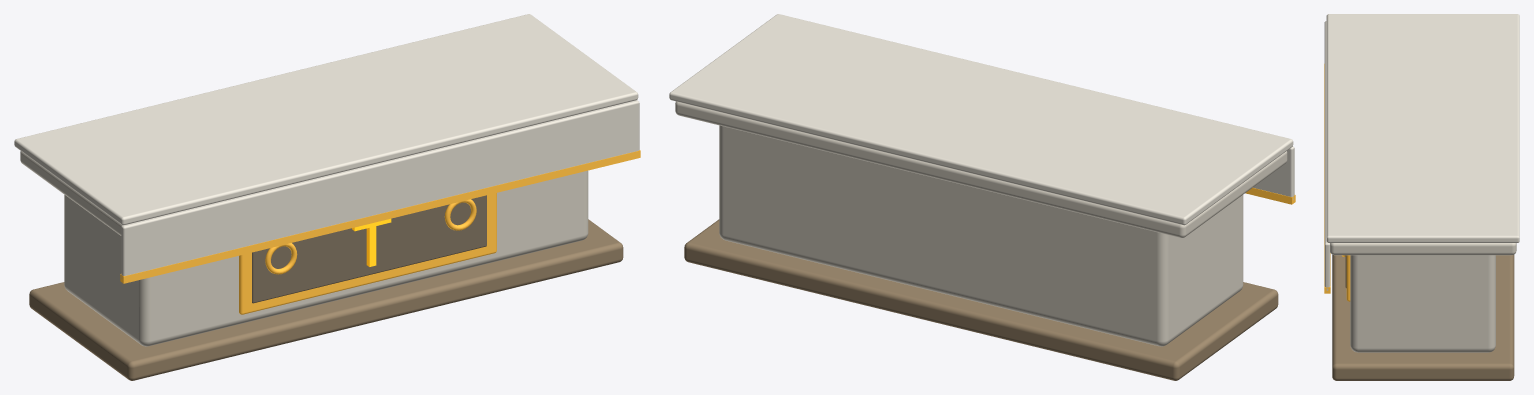
Rendered from altar.glb.
The picture shows the model from 3 angles, left to right: view 1: azimuth 30°, elevation 25°; view 2: azimuth 150°, elevation 25°; view 3: azimuth 270°, elevation 25°; orthographic projection. The views are drawn at different scales.
Visible parts, largest first — view 1: ClothTop, ClothFront, Body, Plinth, AntePanel, ClothTrim, AnteFrame, Top, Cross; view 2: ClothTop, Body, Plinth, Top, ClothFront; view 3: ClothTop, Body, Plinth, Top, ClothFront, ClothTrim, AnteFrame.
Part boxes in pixels (left/top/right/bottom): ClothTop: left=14, top=14, right=638, bottom=225; ClothFront: left=121, top=100, right=639, bottom=278; Body: left=64, top=170, right=588, bottom=346; Plinth: left=29, top=219, right=623, bottom=380; AntePanel: left=252, top=195, right=486, bottom=303; ClothTrim: left=120, top=150, right=640, bottom=283; AnteFrame: left=239, top=193, right=496, bottom=314; Top: left=20, top=151, right=122, bottom=235; Cross: left=352, top=218, right=391, bottom=266; ClothTop: left=669, top=14, right=1293, bottom=225; Body: left=719, top=125, right=1243, bottom=346; Plinth: left=684, top=219, right=1278, bottom=380; Top: left=675, top=101, right=1287, bottom=237; ClothFront: left=1253, top=146, right=1294, bottom=200; ClothTop: left=1326, top=14, right=1519, bottom=242; Body: left=1350, top=255, right=1495, bottom=352; Plinth: left=1332, top=255, right=1514, bottom=380; Top: left=1330, top=243, right=1516, bottom=255; ClothFront: left=1324, top=21, right=1330, bottom=290; ClothTrim: left=1324, top=64, right=1330, bottom=293; AnteFrame: left=1346, top=255, right=1350, bottom=301.
Size of the model in its own units: 3.34 by 1.05 by 1.24.
